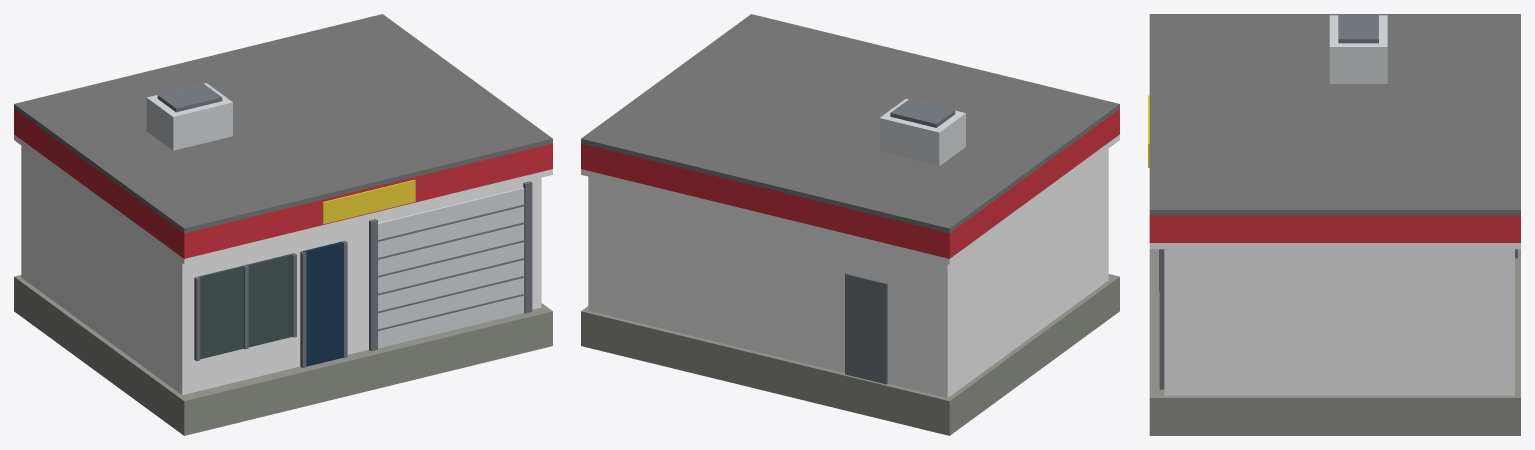
The model's file is site_office.fbx.
3 views of the same model, side by side, from view 1: azimuth 30°, elevation 25°; view 2: azimuth 150°, elevation 25°; view 3: azimuth 270°, elevation 25° (orthographic). The views are drawn at different scales.
Parts seen in each view (by area): view 1: a1019/0/site_office; view 2: a1019/0/site_office; view 3: a1019/0/site_office.
Boxes of the visible parts, box(x1,y1,x2,y2) form: a1019/0/site_office: box(14, 14, 552, 435); a1019/0/site_office: box(581, 14, 1119, 435); a1019/0/site_office: box(1148, 14, 1520, 435).
Size of the model in its own units: 8 by 5.08 by 6.43.
